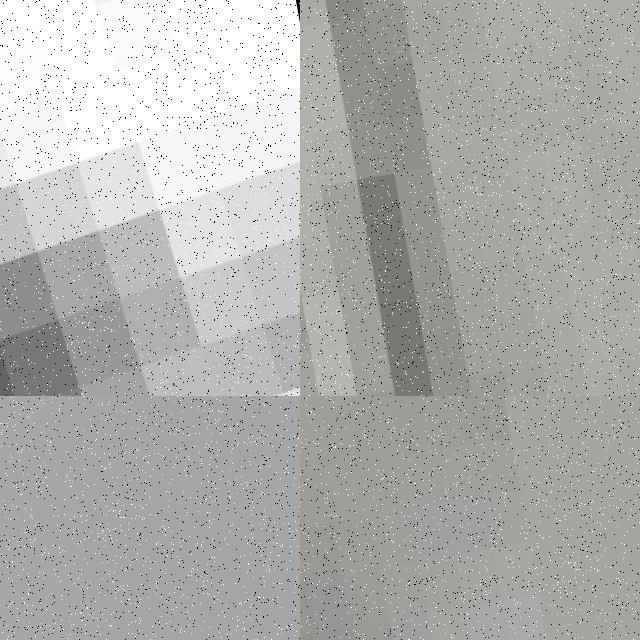drone: (0, 0, 300, 396)
